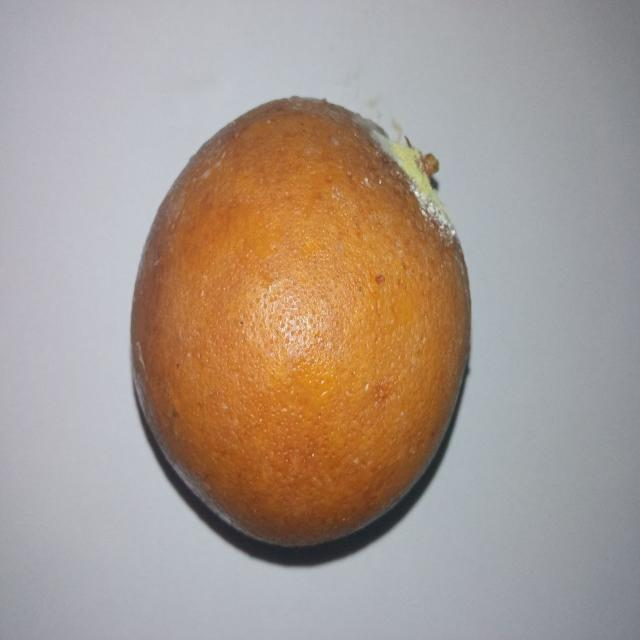rotten_orange: (128, 98, 470, 552)
